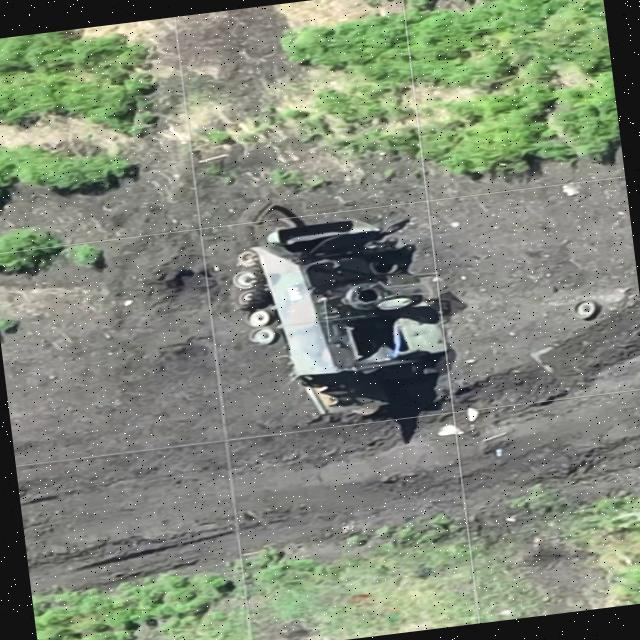Destroyed: (223, 205, 460, 431)
